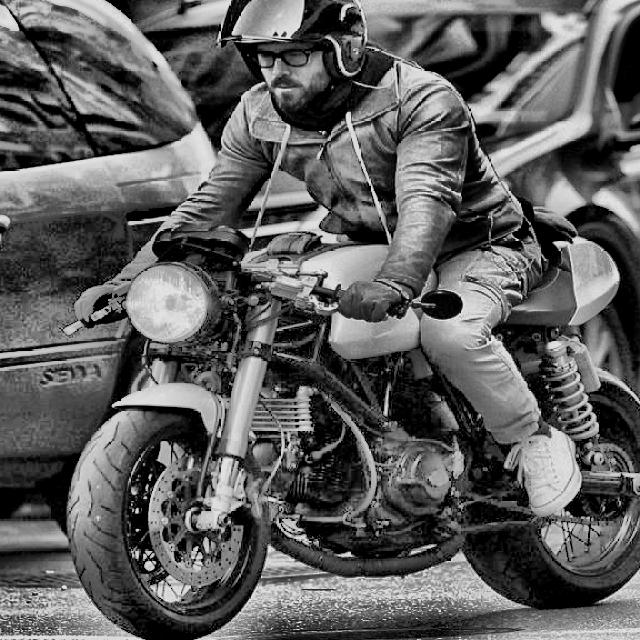Helmet: (209, 0, 372, 119)
